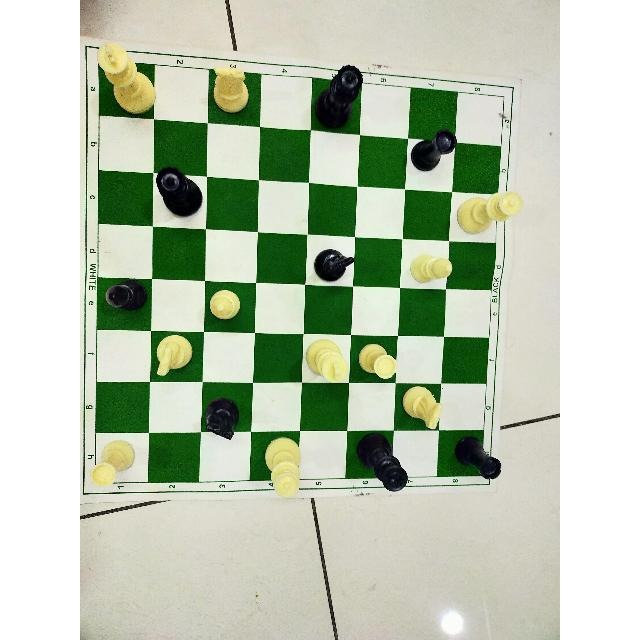black-bishop: (100, 277, 149, 319)
black-king: (353, 431, 413, 495)
black-knight: (202, 394, 242, 443), (310, 247, 356, 286)
black-queen: (311, 62, 365, 134), (148, 164, 203, 220)
white-bishop: (407, 250, 455, 290), (206, 289, 241, 321)
white-king: (93, 39, 160, 117), (301, 338, 348, 386)
white-knight: (401, 383, 448, 433), (208, 63, 251, 116), (155, 332, 196, 383)
white-queen: (455, 189, 525, 236), (262, 437, 306, 503)
white-rook: (454, 431, 503, 482), (88, 438, 136, 487), (410, 128, 458, 177), (357, 339, 401, 382)
